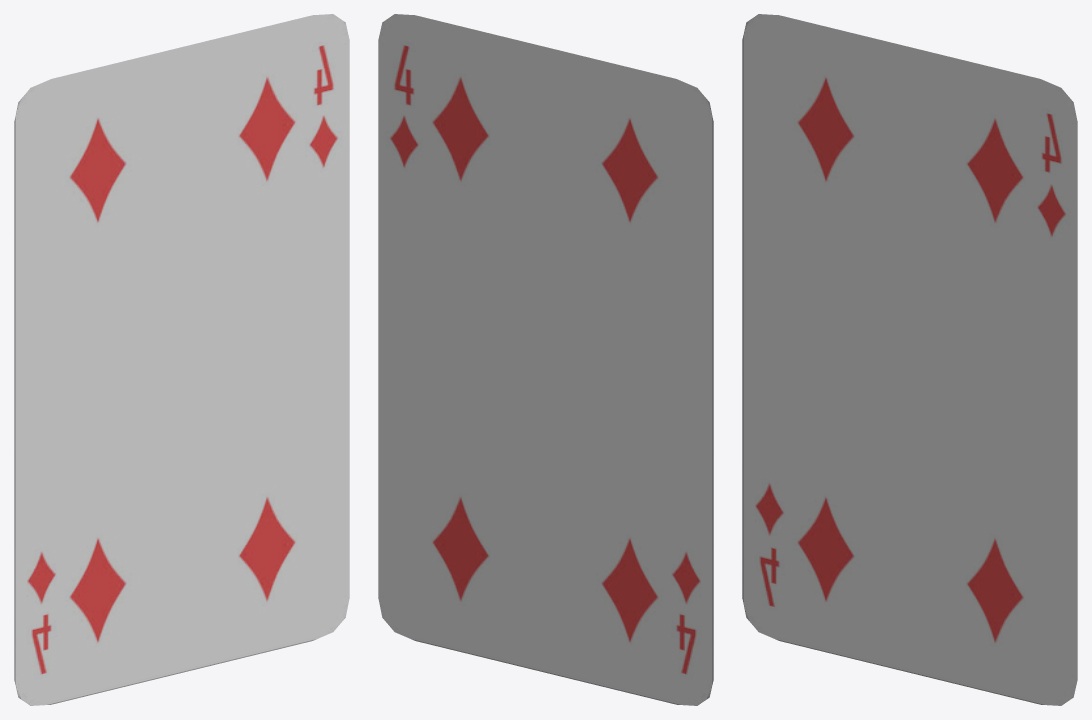
File: 4_diamonds.glb
3 views of the same model, side by side, from view 1: azimuth 30°, elevation 25°; view 2: azimuth 150°, elevation 25°; view 3: azimuth 330°, elevation 25° (orthographic).
Visible parts, largest first — view 1: Four of Diamonds_17_0; view 2: Four of Diamonds_17_0; view 3: Four of Diamonds_17_0.
Part boxes in pixels (bbox=[...]): Four of Diamonds_17_0: bbox=[14, 14, 349, 705]; Four of Diamonds_17_0: bbox=[378, 14, 713, 705]; Four of Diamonds_17_0: bbox=[742, 14, 1077, 705].
Size of the model in its own units: 0.2527 by 0.4503 by 2.78e-17.
Materials: 1 (1 with a texture image).
